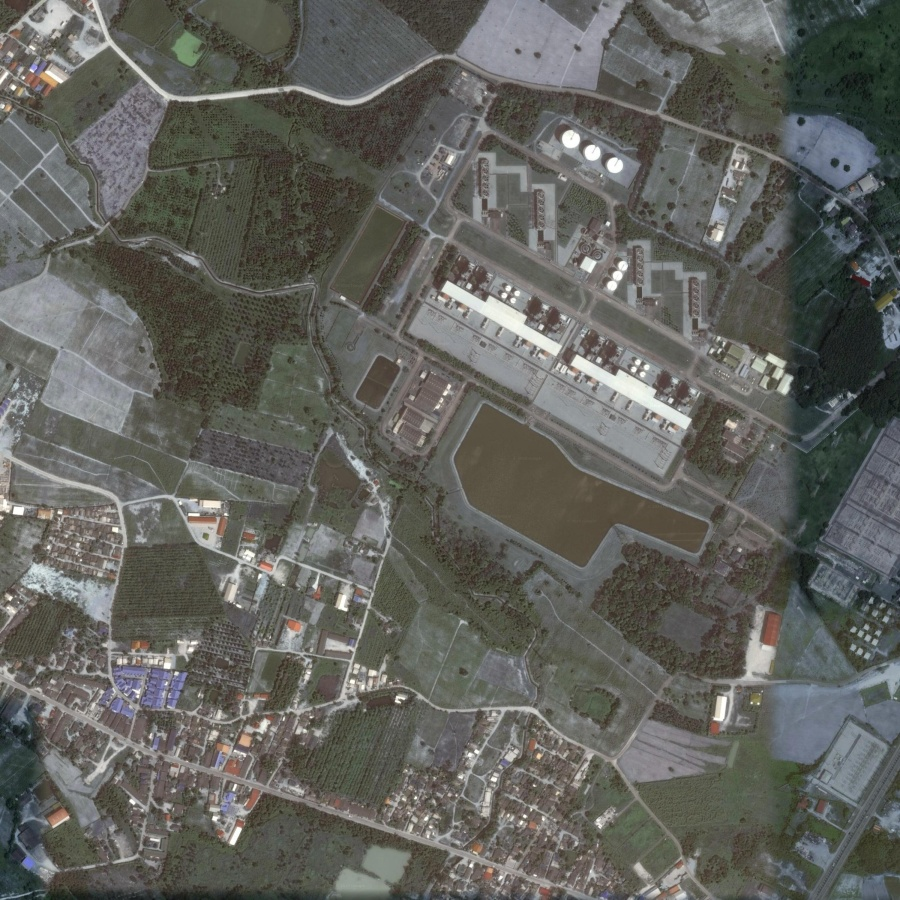PowerPlant: (358, 116, 812, 574)
